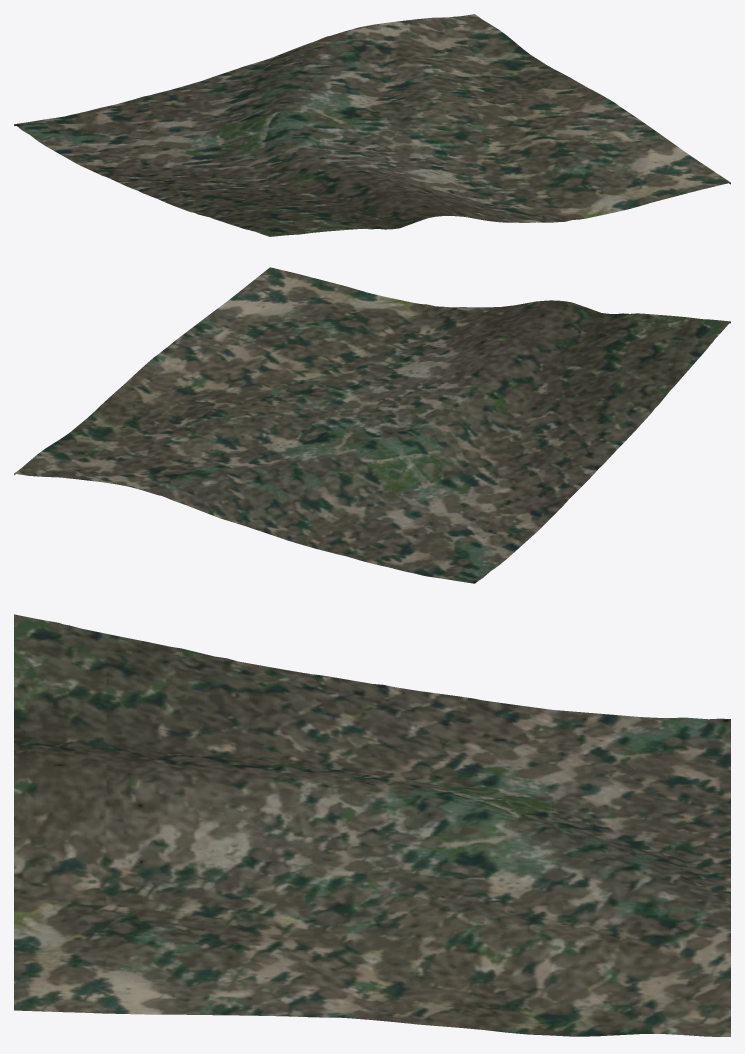
3 views of the same model, one above another, from view 1: azimuth 30°, elevation 25°; view 2: azimuth 150°, elevation 25°; view 3: azimuth 270°, elevation 25° (orthographic). The views are drawn at different scales.
Bounding box in the file's own units: 250 × 42.36 × 241.
Materials: 1 (1 with a texture image).
